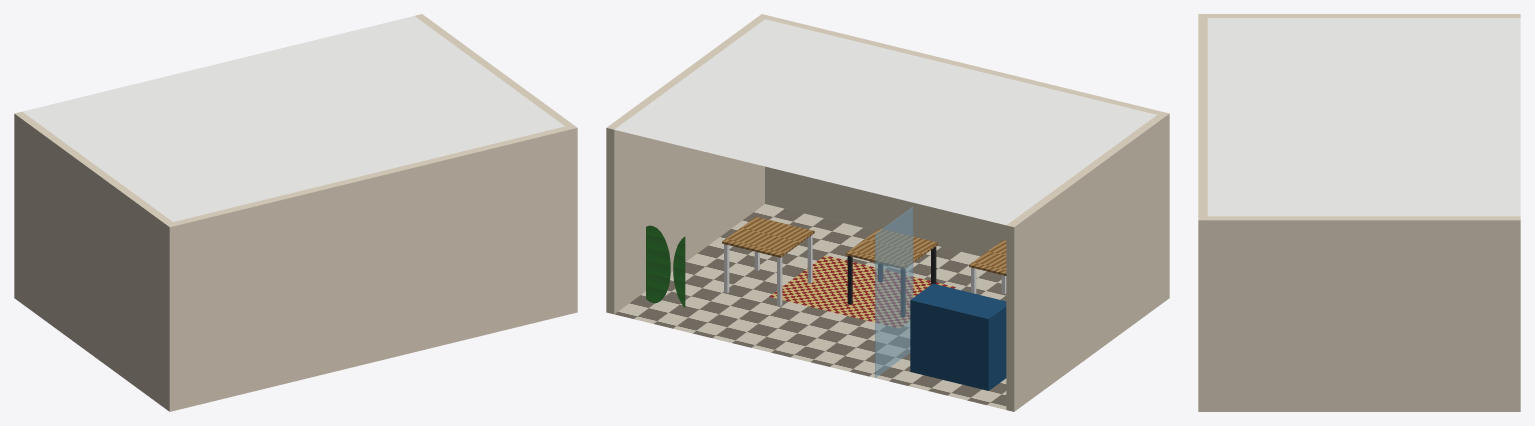
Rendered from demo_restaurant.glb.
3 renders of one model, left to right at view 1: azimuth 30°, elevation 25°; view 2: azimuth 150°, elevation 25°; view 3: azimuth 270°, elevation 25°, orthographic. The views are drawn at different scales.
Parts seen in each view (by area): view 1: 牆, 天花板; view 2: 牆, 天花板, SketchUp, 吧台, 地毯, 玻璃隔間, 桌面 (×3), 植栽; view 3: 牆, 天花板.
Boxes of the visible parts, x1,y1,x2,y2 form: 牆: (14, 14, 577, 411); 天花板: (22, 16, 564, 221); 牆: (606, 14, 1169, 411); 天花板: (614, 19, 1156, 225); SketchUp: (614, 204, 1006, 409); 吧台: (910, 283, 1006, 390); 地毯: (769, 255, 955, 328); 玻璃隔間: (875, 207, 913, 377); 桌面 (×3): (722, 216, 1006, 275); 植栽: (646, 225, 685, 307); 牆: (1198, 14, 1520, 411); 天花板: (1207, 18, 1520, 216).
Size of the model in its own units: 6.24 by 2.7 by 4.12.
10 materials, 4 textured.
